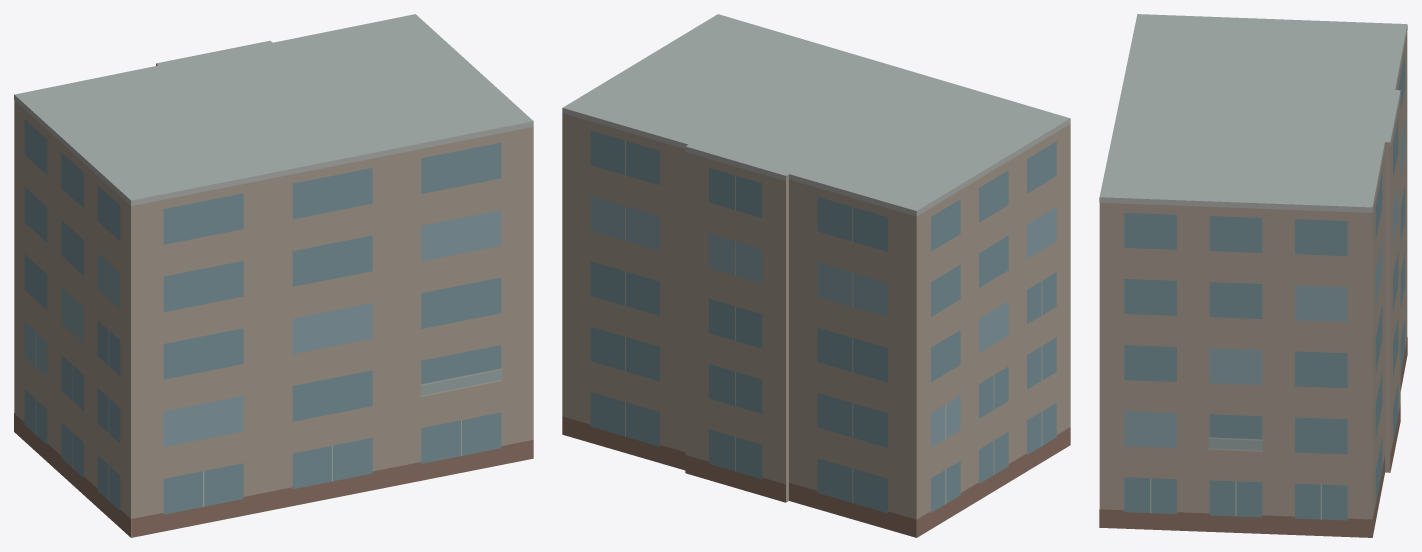
Rendered from survey-upis-32981533.glb.
3 views of the same model, side by side, from view 1: azimuth 30°, elevation 25°; view 2: azimuth 150°, elevation 25°; view 3: azimuth 270°, elevation 25° (orthographic). The views are drawn at different scales.
Visible parts, largest first — view 1: survey-upis-32981533.tmp; view 2: survey-upis-32981533.tmp; view 3: survey-upis-32981533.tmp.
Boxes of the visible parts, x1=… form: survey-upis-32981533.tmp: x1=14, y1=14, x2=533, y2=537; survey-upis-32981533.tmp: x1=562, y1=14, x2=1070, y2=537; survey-upis-32981533.tmp: x1=1099, y1=14, x2=1407, y2=537.
Bounding box in the file's own units: 18.65 × 14.85 × 12.55.
